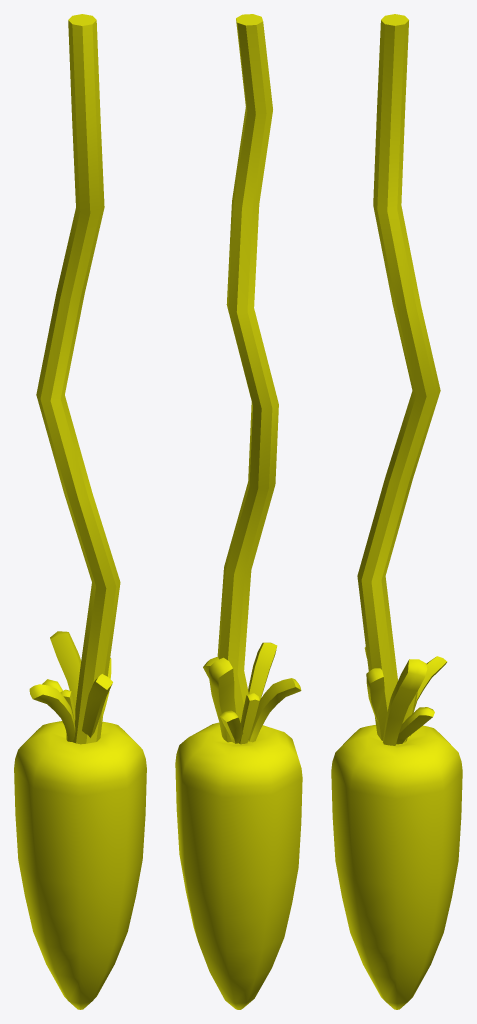
3 renders of one model, left to right at view 1: azimuth 90°, elevation 25°; view 2: azimuth 210°, elevation 25°; view 3: azimuth 270°, elevation 25°, orthographic.
Parts seen in each view (by area): view 1: Carrot1; view 2: Carrot1; view 3: Carrot1.
Part boxes in pixels (x1,y1,x2,y2): Carrot1: (14, 14, 146, 1009); Carrot1: (175, 14, 302, 1009); Carrot1: (331, 14, 462, 1009).
Size of the model in its own units: 0.0146 by 0.1203 by 0.0146.
1 material, 1 textured.
